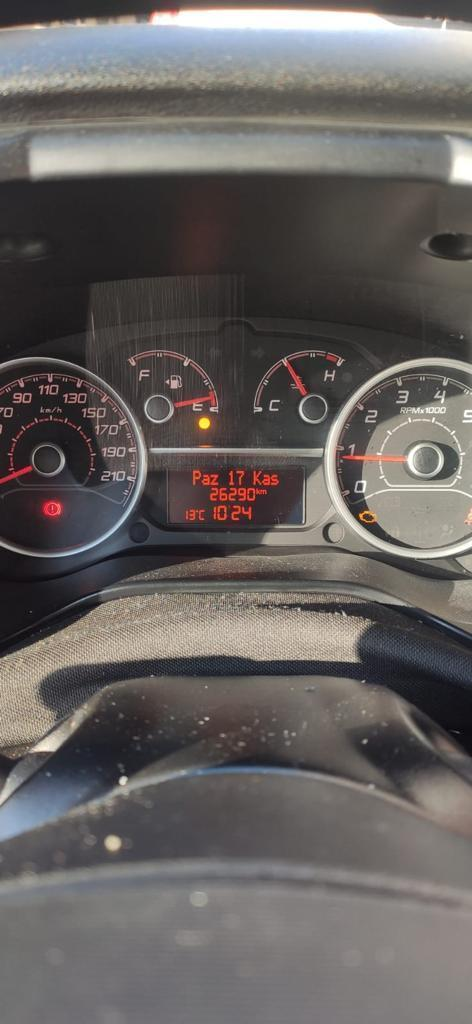0: (217, 505, 227, 520), (247, 487, 255, 501)
1: (228, 470, 234, 485), (213, 505, 217, 520), (185, 510, 188, 520)
2: (231, 505, 240, 520), (209, 487, 218, 501), (228, 487, 236, 501)
3: (188, 509, 195, 520)
4: (241, 505, 252, 520)
6: (219, 487, 227, 500)
7: (235, 470, 244, 486)
9: (237, 487, 246, 501)
X: (192, 470, 201, 486), (252, 470, 261, 485), (261, 473, 270, 485), (209, 473, 218, 485), (270, 474, 279, 485), (201, 474, 209, 485), (198, 509, 205, 520), (255, 487, 260, 494), (260, 489, 266, 494)
odometer: (165, 464, 306, 526)
